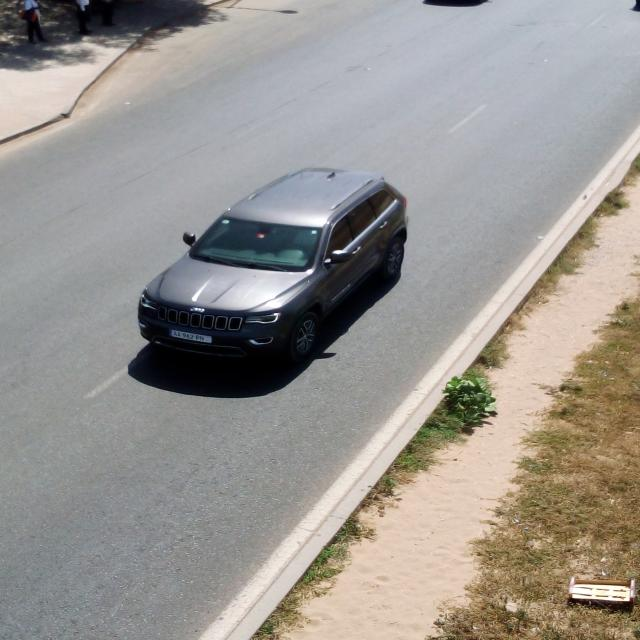particulier: (139, 169, 408, 361)
